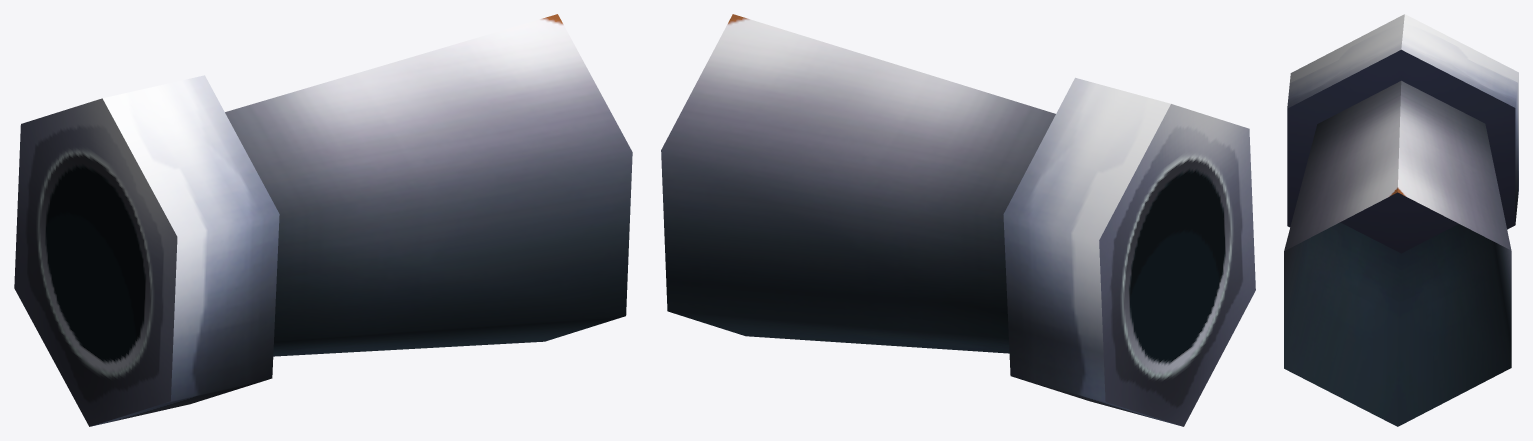
File: medium_canon.glb
3 renders of one model, left to right at view 1: azimuth 30°, elevation 25°; view 2: azimuth 150°, elevation 25°; view 3: azimuth 270°, elevation 25°, orthographic. The views are drawn at different scales.
Parts seen in each view (by area): view 1: pirate_boat_04_cannon01; view 2: pirate_boat_04_cannon01; view 3: pirate_boat_04_cannon01.
Boxes of the visible parts, x1,y1,x2,y2 form: pirate_boat_04_cannon01: [14, 14, 632, 426]; pirate_boat_04_cannon01: [661, 14, 1255, 426]; pirate_boat_04_cannon01: [1284, 14, 1518, 426].
Size of the model in its own units: 1 by 0.7158 by 0.5957.
Materials: 1 (1 with a texture image).
